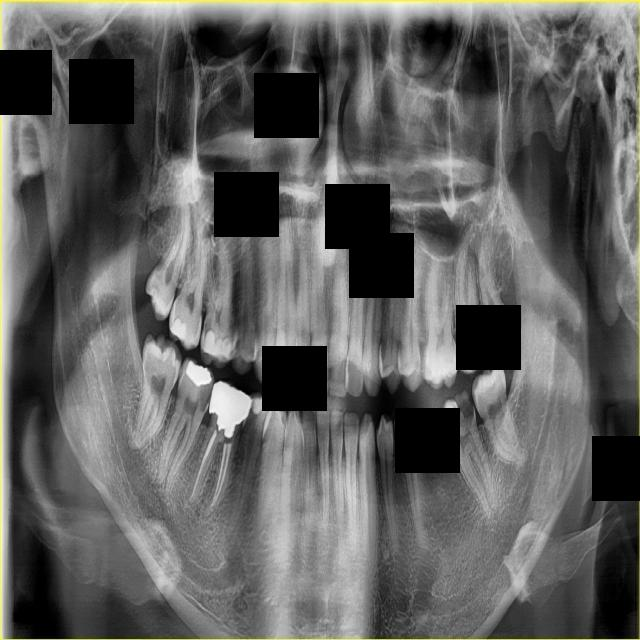74: (186, 429, 219, 500), (211, 442, 232, 509)
NucleOSS Implant: (195, 378, 256, 440), (181, 356, 215, 390), (167, 316, 192, 342)
Sterngold Implant: (447, 389, 479, 435), (197, 376, 214, 410), (151, 281, 163, 300), (441, 422, 449, 437), (412, 420, 417, 439)
Straumann Implant: (201, 325, 234, 360), (249, 393, 269, 415)
